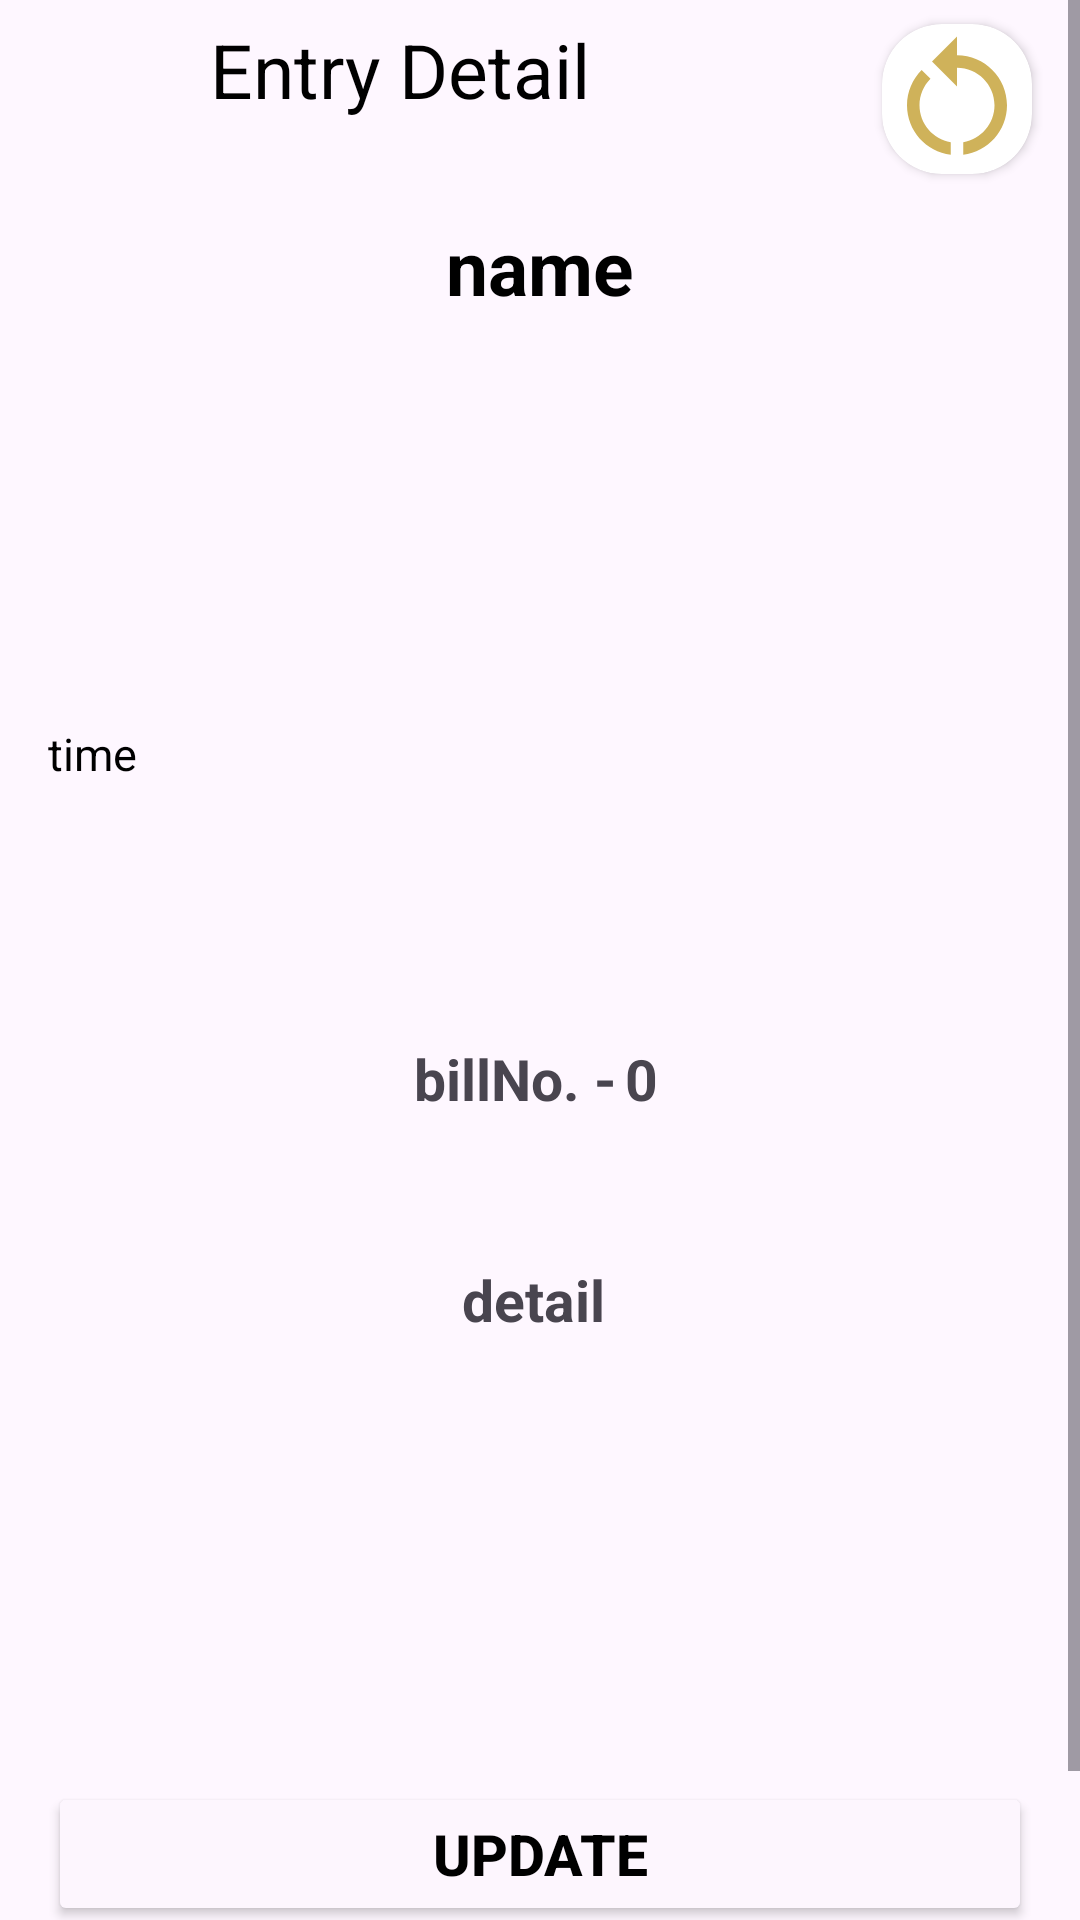

Screen size 1080 x 1920. Icon name, then its center in pixels as [x,y]:
restart: [957,99]
